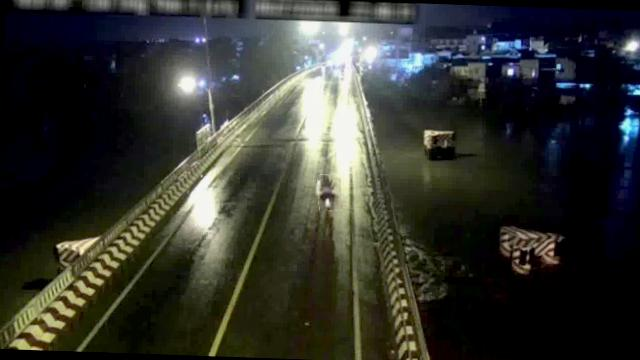Bike: (317, 174, 340, 212)
